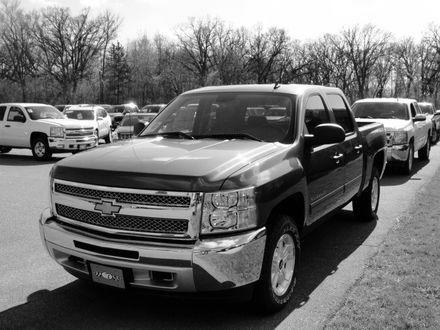car: (40, 82, 389, 309)
